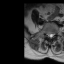CCS_normal: (50, 31, 51, 40)
LFS_normal: (53, 30, 55, 36)
LLS_normal: (51, 31, 53, 38)
RFS_normal: (46, 30, 48, 37)
RLS_normal: (48, 31, 50, 38)
